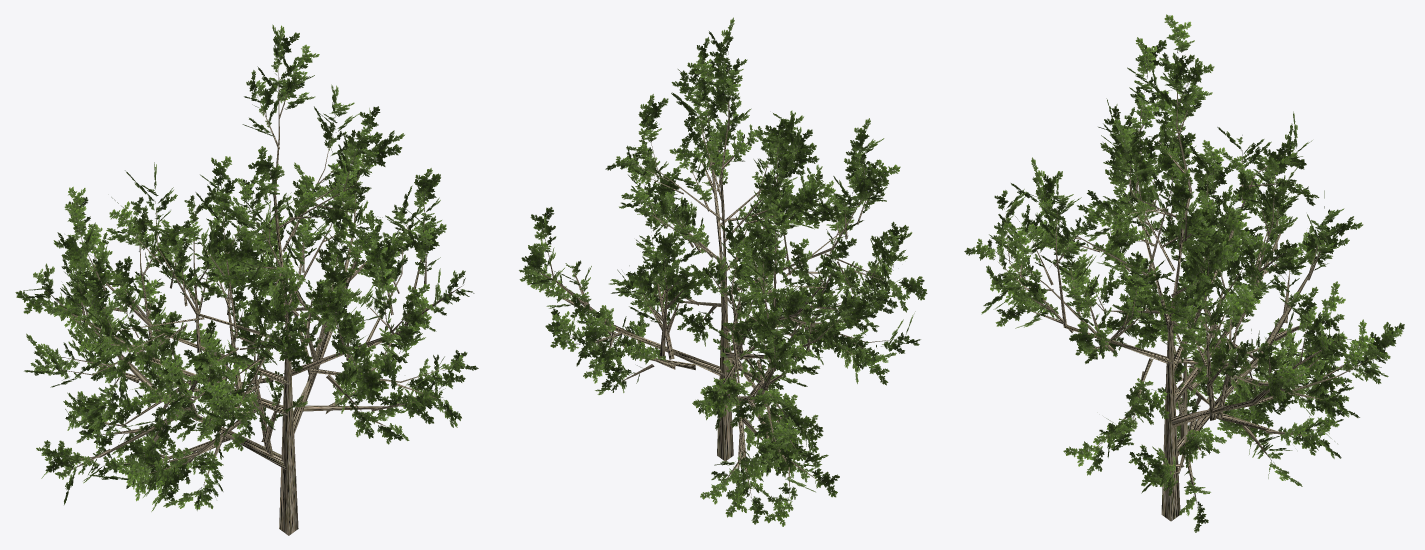
Rendered from ez-oak-lod2.glb.
3 views of the same model, side by side, from view 1: azimuth 30°, elevation 25°; view 2: azimuth 150°, elevation 25°; view 3: azimuth 270°, elevation 25° (orthographic). The views are drawn at different scales.
Visible parts, largest first — view 1: Leaves_LOD2, Branches_LOD2; view 2: Leaves_LOD2, Branches_LOD2; view 3: Leaves_LOD2, Branches_LOD2.
Boxes of the visible parts, x1=… form: Leaves_LOD2: x1=15, y1=24, x2=478, y2=511; Branches_LOD2: x1=43, y1=67, x2=463, y2=535; Leaves_LOD2: x1=519, y1=17, x2=927, y2=526; Branches_LOD2: x1=533, y1=57, x2=902, y2=496; Leaves_LOD2: x1=964, y1=14, x2=1404, y2=532; Branches_LOD2: x1=998, y1=57, x2=1374, y2=521.
Size of the model in its own units: 61.49 by 71.94 by 57.7.
Materials: 2 (2 with a texture image).
